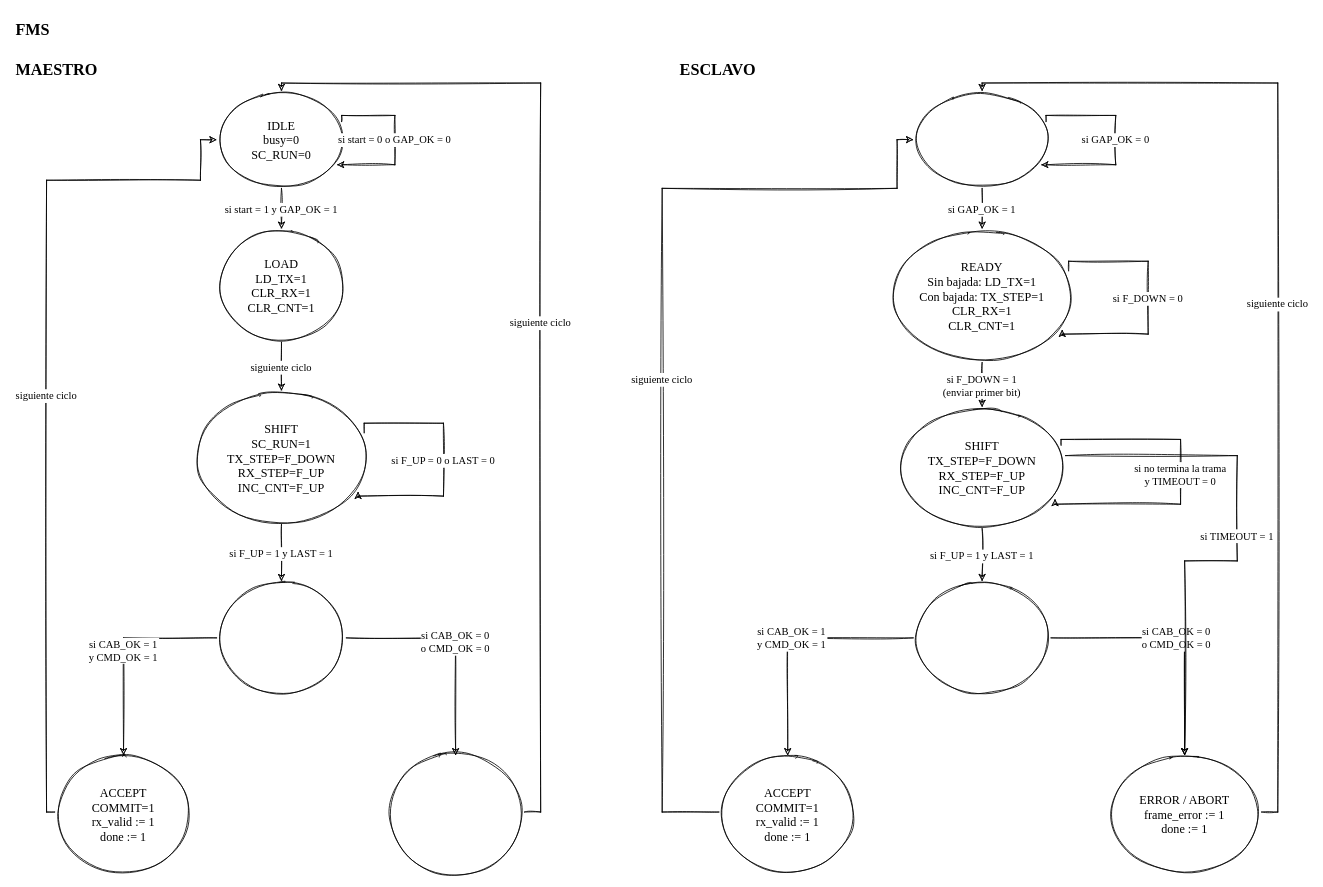
This 1323x887 diagram has some shape labels left out. Each missing label, with the centre of its shape:
CHECK Evaluar CAB_OK y CMD_OK: the point at 981,637
CHECK SC_RUN=0 Evaluar CAB_OK y CMD_OK: the point at 281,637
ERROR frame_error := 1 done := 1: the point at 455,814
SYNC Esperar SC alto durante T_GAP: the point at 981,139
